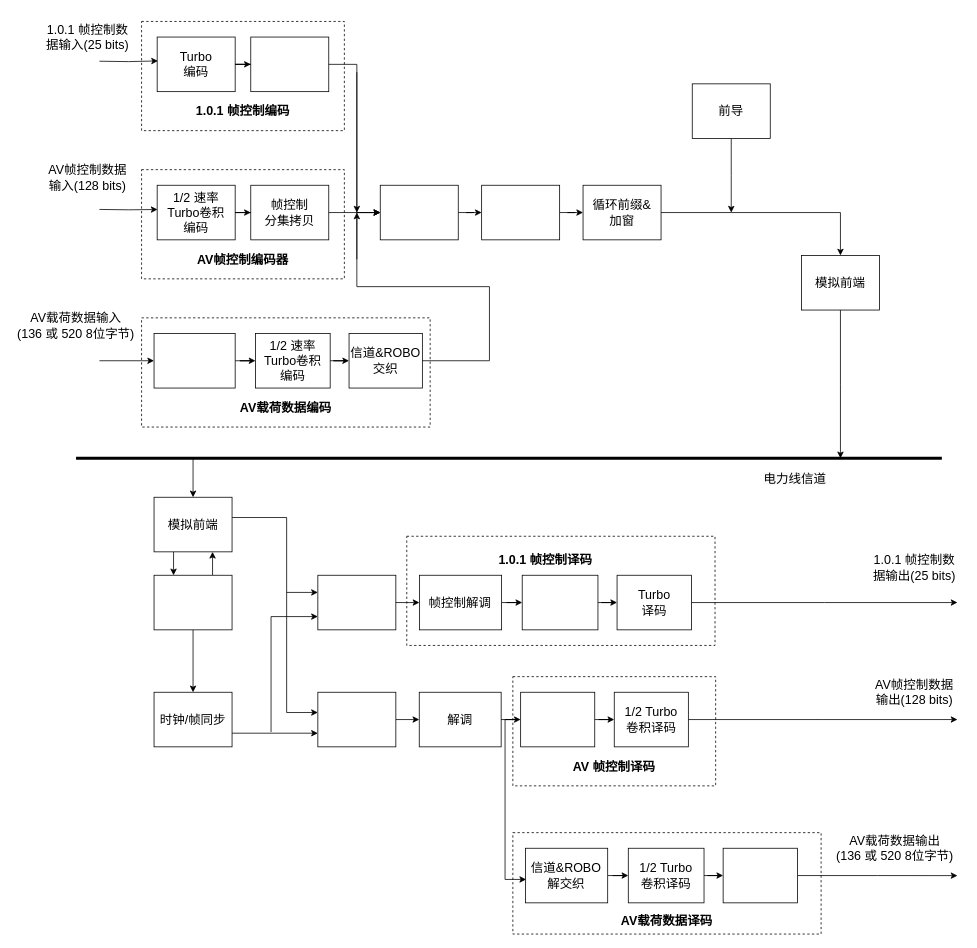
This 977x948 diagram has some shape labels left out. Each missing label, with the box of its shape:
3072点FFT: (317, 691, 396, 747)
384点FFT: (317, 574, 396, 630)
IFFT: (481, 184, 560, 240)
帧控制 分集合并: (520, 691, 595, 747)
帧控制 解交织: (521, 574, 598, 630)
帧控制交织: (250, 36, 329, 92)
扰码: (153, 333, 235, 388)
星座点映射: (379, 184, 458, 240)
自动增益控制: (153, 574, 232, 630)
解扰: (722, 847, 797, 903)
